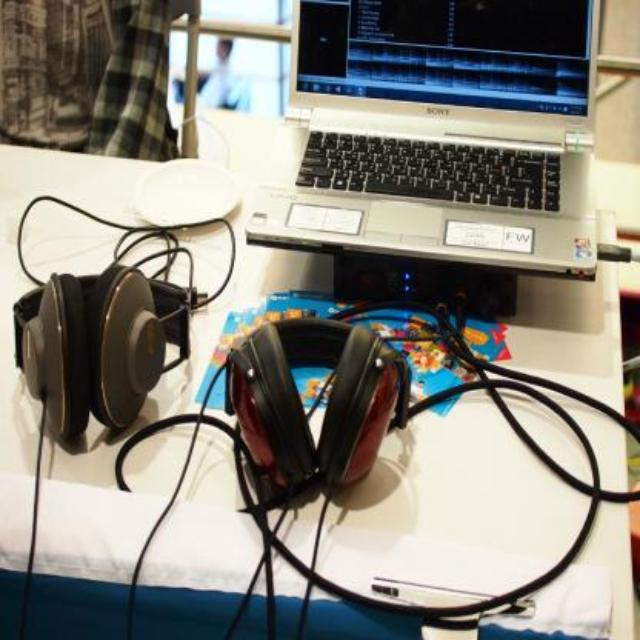Laptop: (270, 0, 614, 290)
